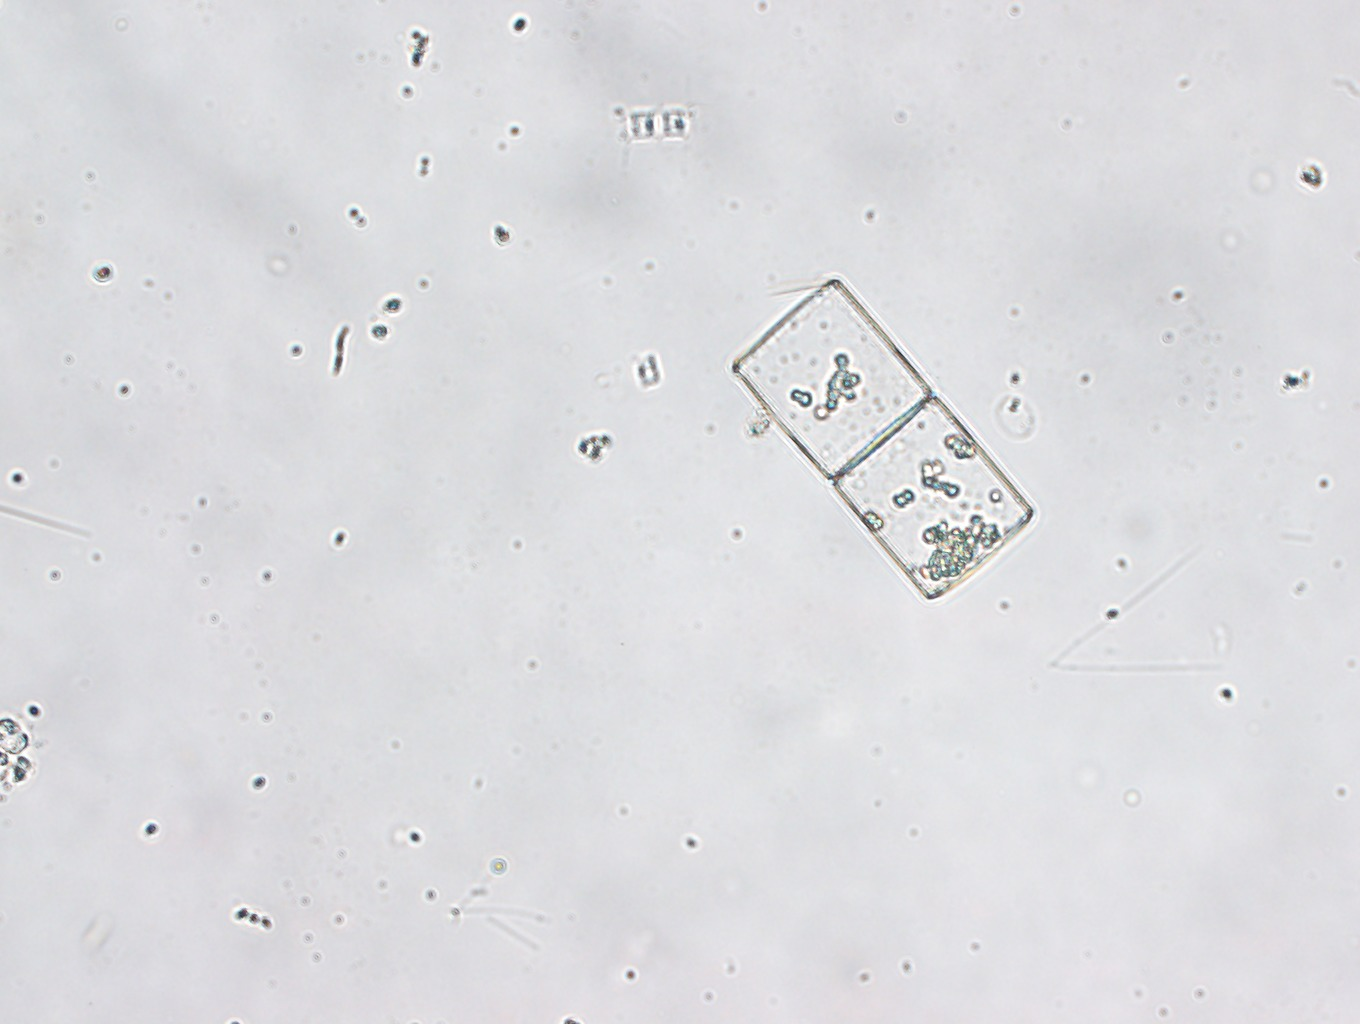guinardia flaccida: (731, 278, 1035, 599)
